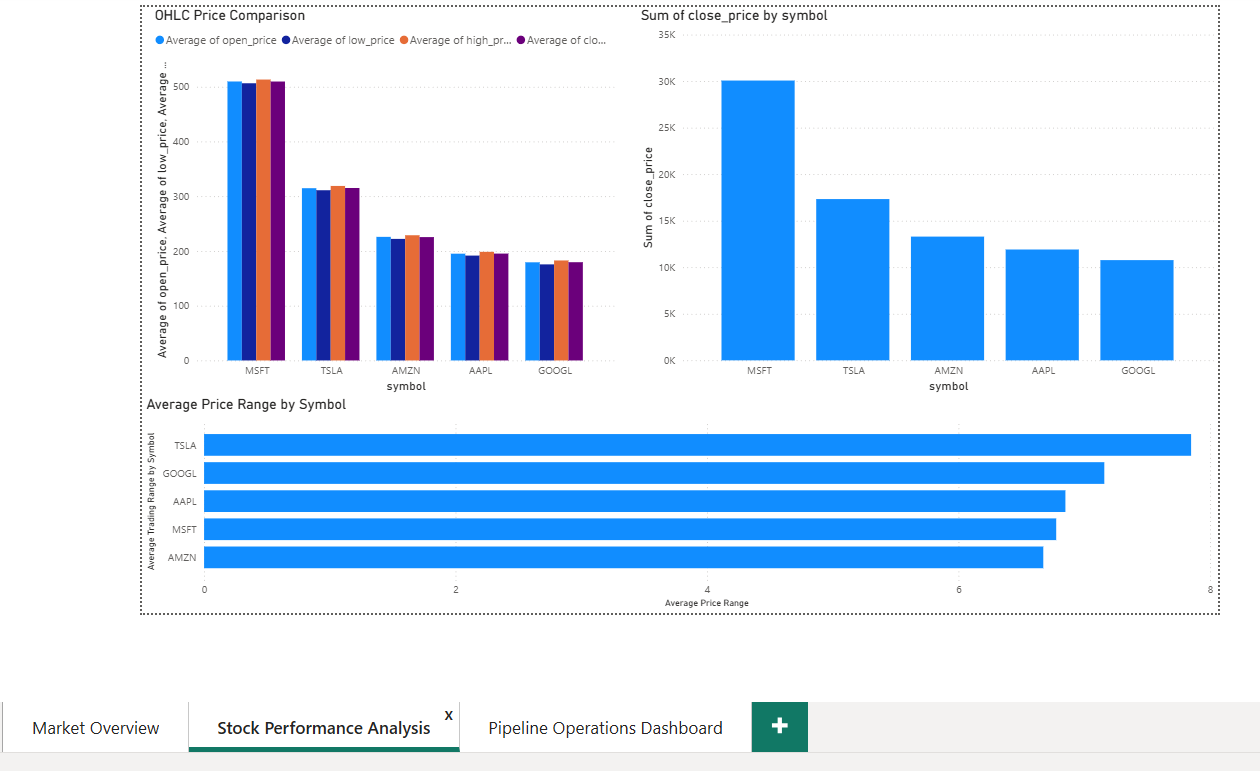

The dashboard page shown, as its layout file describes it:
{"tool":"powerbi","page":{"name":"Stock Performance Analysis","canvas":[1280,720],"ordinal":1},"visuals":[{"type":"clusteredColumnChart","title":"OHLC Price Comparison","fields":{"Category":["gold stock_metrics_1min.symbol"],"Y":["Avg(gold stock_metrics_1min.open_price)","Avg(gold stock_metrics_1min.low_price)","Avg(gold stock_metrics_1min.high_price)","Avg(gold stock_metrics_1min.close_price)"]},"box":[9.5,0,557.1,463.5],"z":0},{"type":"clusteredBarChart","title":"Average Price Range by Symbol","fields":{"Category":["gold stock_metrics_1min.symbol"],"Y":["gold stock_metrics_1min.Average Price Range"]},"box":[0,463.5,1279.4,257.1],"z":1000},{"type":"clusteredColumnChart","fields":{"Category":["gold stock_metrics_1min.symbol"],"Y":["Sum(gold stock_metrics_1min.close_price)"]},"box":[587.3,0,692.1,463.5],"z":2000}]}

Visuals, with their boxes on the page's 1280x720 design canvas (x1, y1, x2, y2). These are canvas units, not pixel positions in the 1260x771 screenshot, which may show the page scaled, cropped or inside an application window:
"OHLC Price Comparison" clusteredColumnChart: box(10, 0, 567, 464)
"Average Price Range by Symbol" clusteredBarChart: box(0, 464, 1279, 721)
clusteredColumnChart - gold stock_metrics_1min.symbol x Sum(gold stock_metrics_1min.close_price): box(587, 0, 1279, 464)
